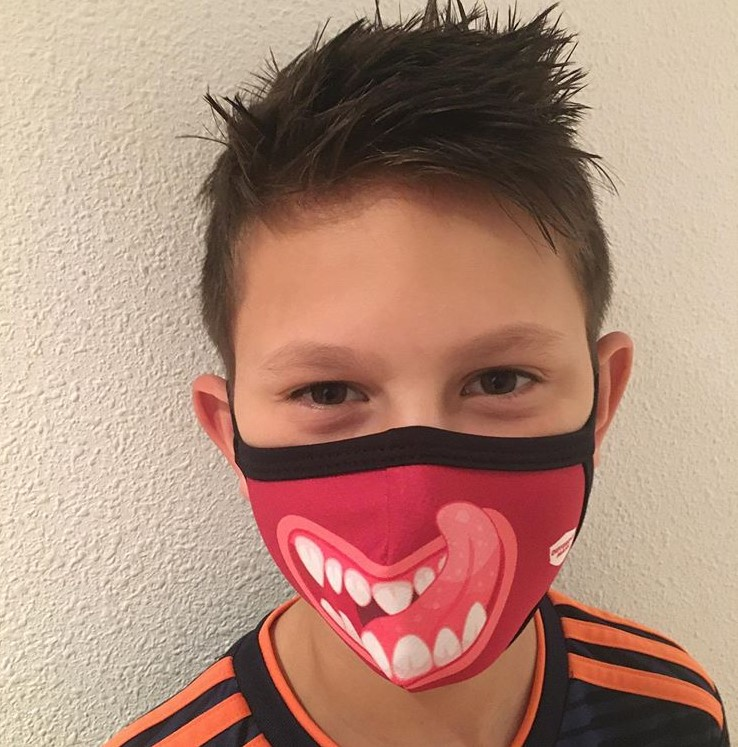face_with_mask: (192, 25, 631, 692)
